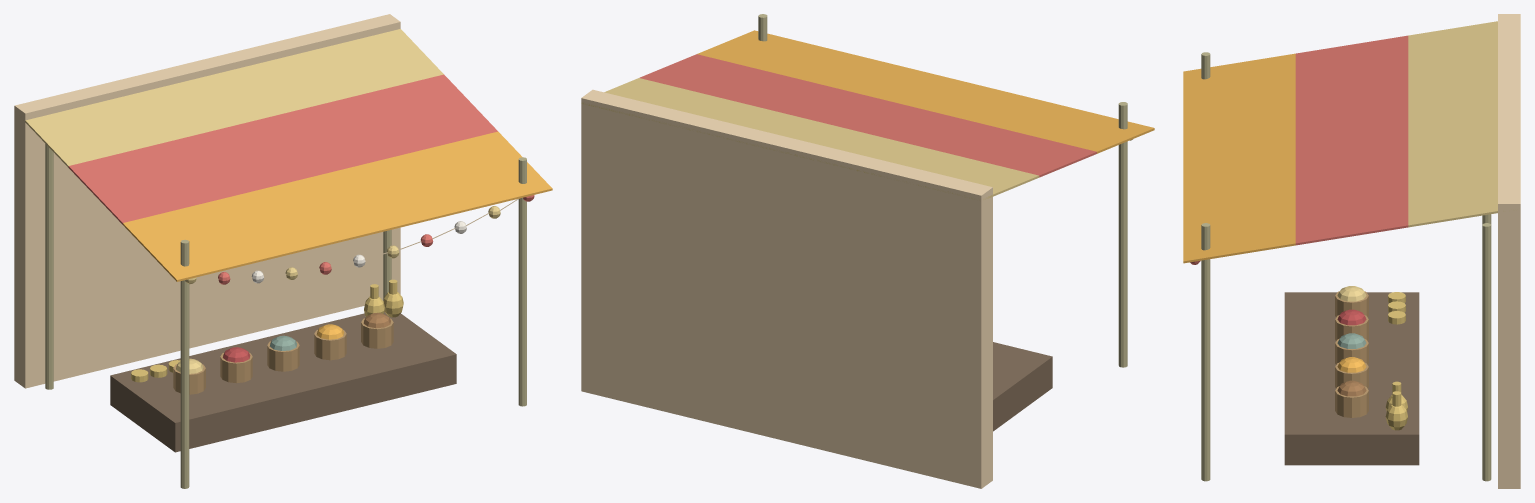
Rendered from Shop_India.fbx.
3 renders of one model, left to right at view 1: azimuth 30°, elevation 25°; view 2: azimuth 150°, elevation 25°; view 3: azimuth 270°, elevation 25°, orthographic. The views are drawn at different scales.
Parts seen in each view (by area): view 1: Shop_India_Mesh; view 2: Shop_India_Mesh; view 3: Shop_India_Mesh.
Part boxes in pixels (<box>): Shop_India_Mesh: <box>14,14,552,488</box>; Shop_India_Mesh: <box>581,14,1154,488</box>; Shop_India_Mesh: <box>1183,14,1520,488</box>.
Bounding box in the file's own units: 4 × 2.8 × 3.
